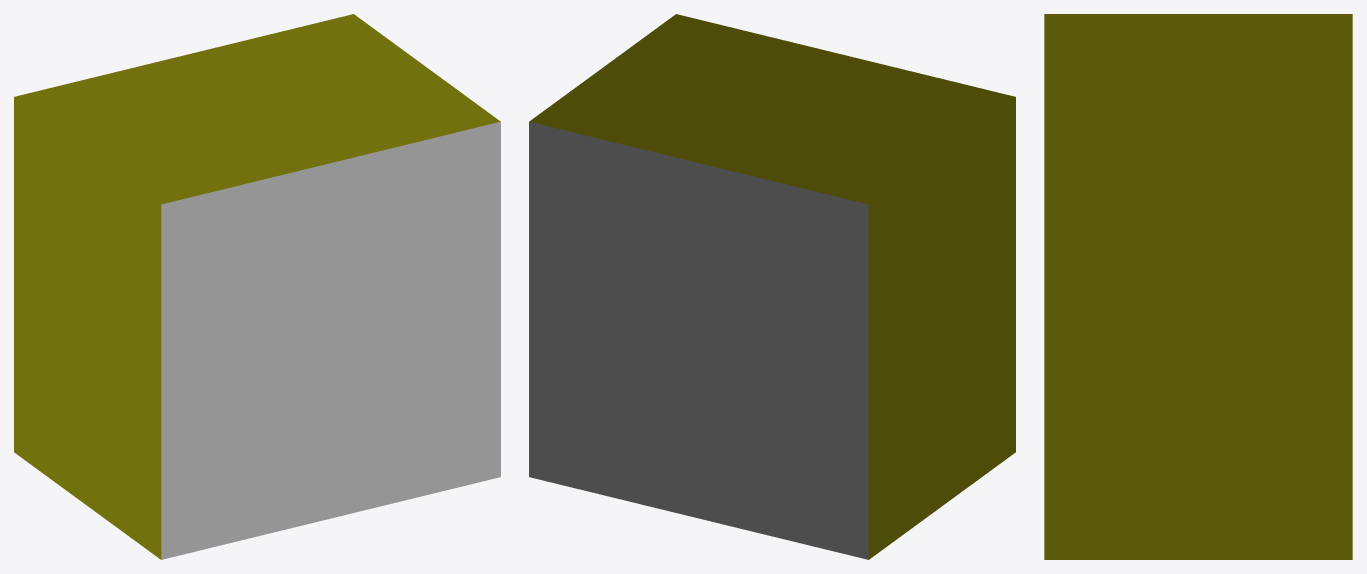
The model's file is idf.obj.
The picture shows the model from 3 angles, left to right: view 1: azimuth 30°, elevation 25°; view 2: azimuth 150°, elevation 25°; view 3: azimuth 270°, elevation 25°; orthographic projection. The views are drawn at different scales.
Bounding box in the file's own units: 6.1 × 6.1 × 4.57.
